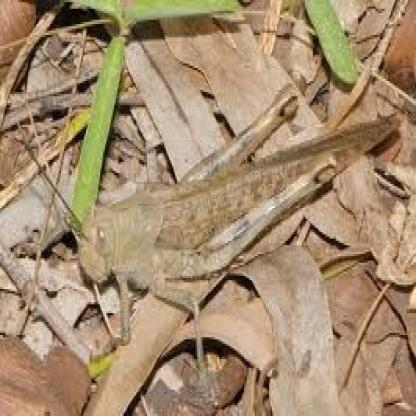grasshopper: (38, 88, 402, 357)
